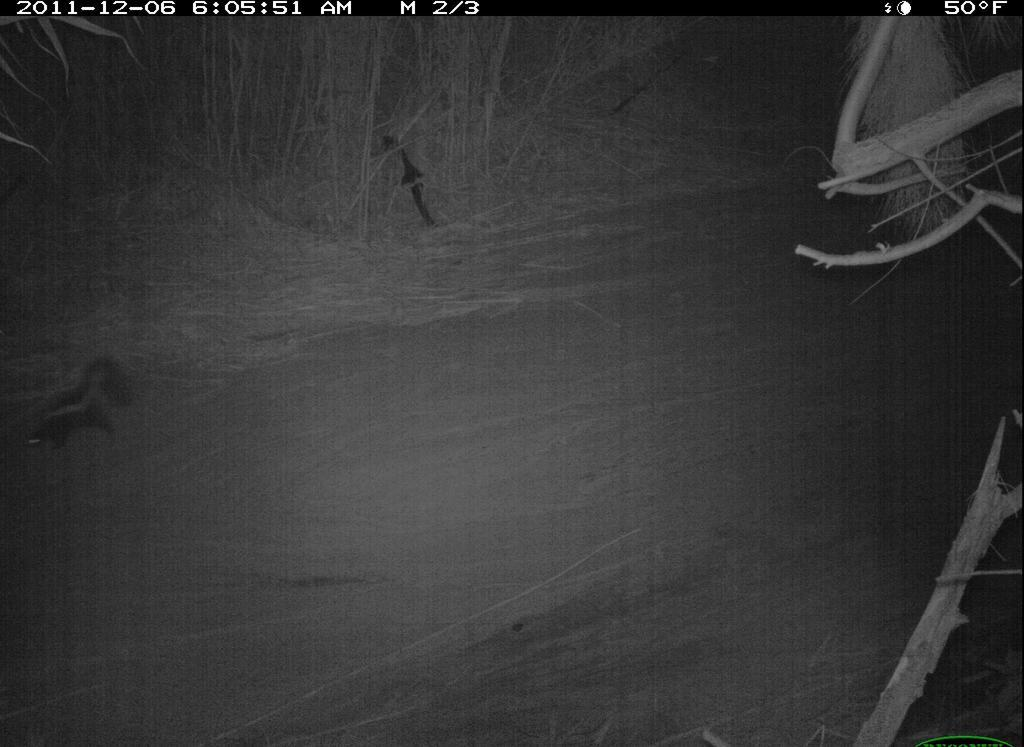skunk: (16, 358, 146, 461)
